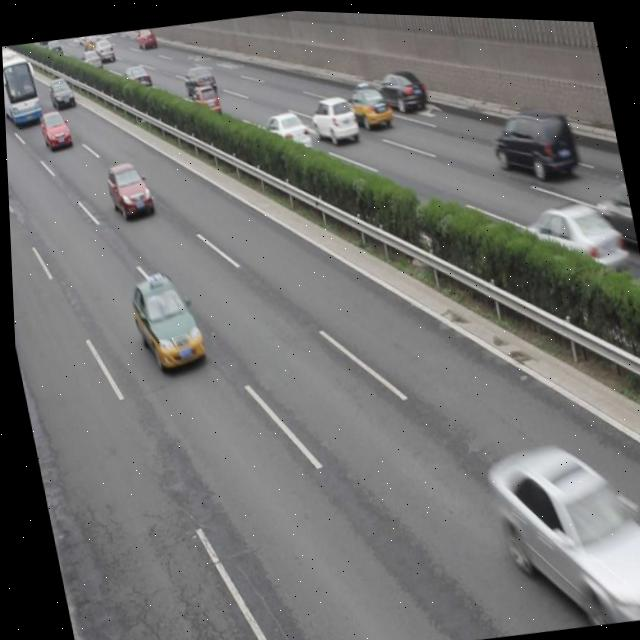car: (479, 429, 640, 635), (515, 192, 629, 282), (124, 267, 206, 375), (588, 178, 638, 255), (101, 158, 154, 222), (307, 91, 360, 145), (342, 79, 393, 131), (374, 66, 428, 114), (259, 106, 311, 152), (37, 107, 71, 149), (181, 63, 216, 97), (189, 80, 221, 115), (46, 75, 76, 110), (119, 61, 151, 92), (133, 26, 157, 51), (91, 37, 114, 62), (78, 48, 101, 72)
truck: (485, 100, 580, 183)
van: (2, 45, 42, 128)
